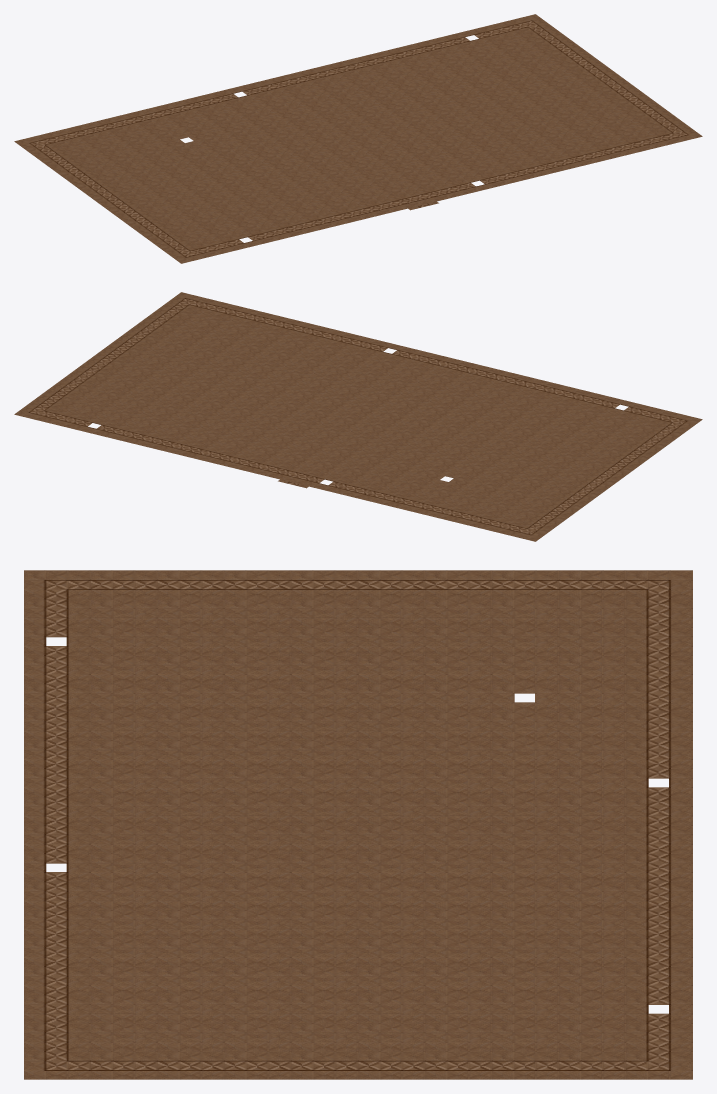
File: parquet.gltf
The picture shows the model from 3 angles, top to bottom: view 1: azimuth 30°, elevation 25°; view 2: azimuth 150°, elevation 25°; view 3: azimuth 270°, elevation 25°; orthographic projection. The views are drawn at different scales.
Parts seen in each view (by area): view 1: p_complete.020, p_complete.036, p_complete.049, p_complete.050, p_complete.097, p_complete.098, p_complete.180, p_complete.119, p_complete.134, p_complete.159, p_complete.002, p_complete.003 (+168 smaller); view 2: p_complete.018, p_complete.038, p_complete.043, p_complete.044, p_complete.103, p_complete.104, p_complete.182, p_complete.118, p_complete.135, p_complete.157, p_complete, p_complete.001 (+168 smaller); view 3: p_complete.002, p_complete.006, p_complete.010, p_complete.011, p_complete.015, p_complete.021, p_complete.023, p_complete.024, p_complete.028, p_complete.029, p_complete.033, p_complete.039 (+168 smaller).
Part boxes in pixels (x1,y1,x2,y2): p_complete.020: (110,176,155,195); p_complete.036: (561,82,606,101); p_complete.049: (259,172,304,191); p_complete.050: (288,165,333,184); p_complete.097: (383,93,428,112); p_complete.098: (412,86,457,105); p_complete.180: (494,33,539,52); p_complete.119: (43,127,88,146); p_complete.134: (628,131,673,150); p_complete.159: (177,225,222,244); p_complete.002: (574,63,618,82); p_complete.003: (507,14,551,33); p_complete.018: (110,360,155,379); p_complete.038: (561,454,606,473); p_complete.043: (288,371,333,390); p_complete.044: (259,364,304,383); p_complete.103: (412,450,457,469); p_complete.104: (383,443,428,462); p_complete.182: (494,503,539,522); p_complete.118: (43,409,88,428); p_complete.135: (628,405,673,424); p_complete.157: (177,311,222,330); p_complete: (313,410,357,429); p_complete.001: (246,459,290,477); p_complete.002: (358,1051,425,1079); p_complete.006: (358,853,425,881); p_complete.010: (358,966,425,994); p_complete.011: (358,655,425,683); p_complete.015: (358,768,425,796); p_complete.021: (358,570,425,598); p_complete.023: (291,1051,358,1079); p_complete.024: (291,853,358,881); p_complete.028: (291,966,358,994); p_complete.029: (291,655,358,683); p_complete.033: (291,768,358,796); p_complete.039: (291,570,358,598).
Size of the model in its own units: 36 by 5 by 20.
Materials: 7 (7 with a texture image).
